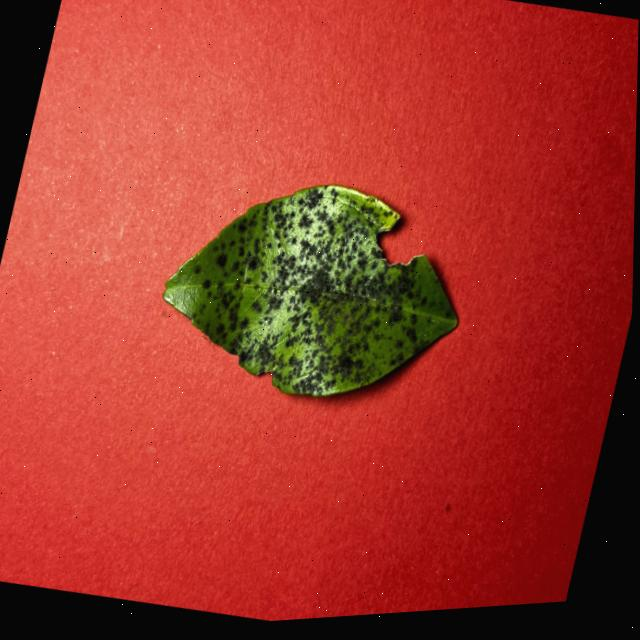sooty_mold: (162, 184, 456, 394)
